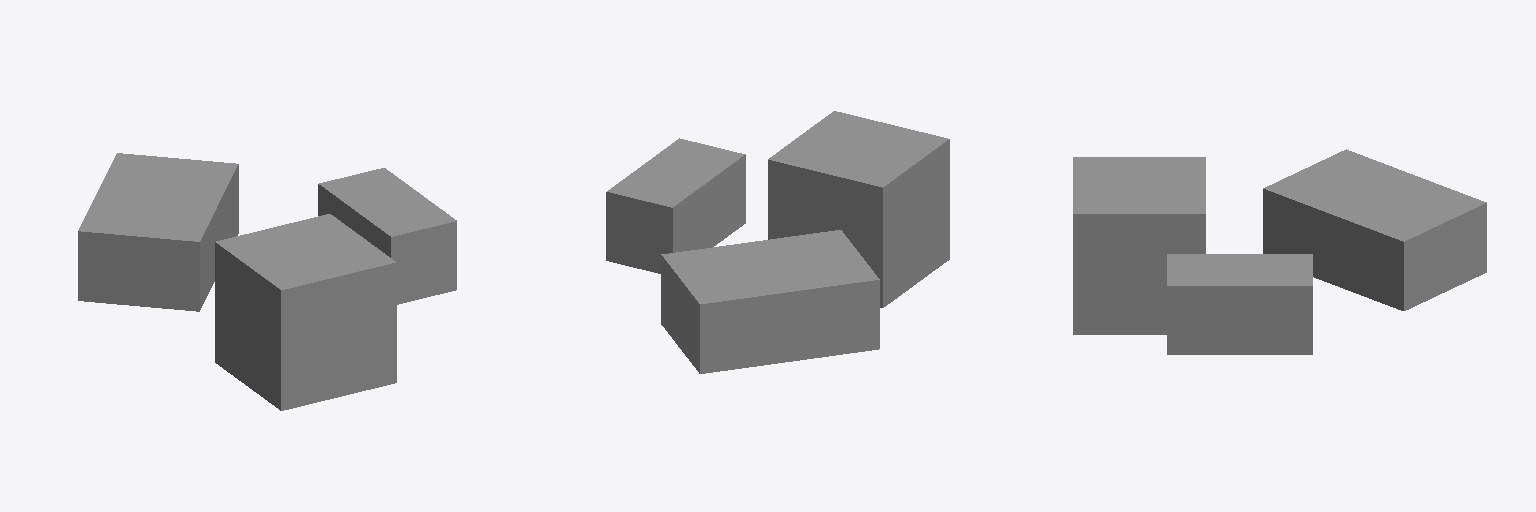
The model's file is 3cubes.obj.
3 views of the same model, side by side, from view 1: azimuth 30°, elevation 25°; view 2: azimuth 150°, elevation 25°; view 3: azimuth 270°, elevation 25° (orthographic).
Parts seen in each view (by area): view 1: Cube, Cube.001, Cube.002; view 2: Cube.001, Cube, Cube.002; view 3: Cube.001, Cube, Cube.002.
Boxes of the visible parts, <box> form: Cube: <box>215,214,396,410</box>; Cube.001: <box>78,153,238,311</box>; Cube.002: <box>318,168,456,304</box>; Cube.001: <box>661,230,879,373</box>; Cube: <box>768,111,949,307</box>; Cube.002: <box>606,138,745,273</box>; Cube.001: <box>1263,149,1486,310</box>; Cube: <box>1073,157,1205,334</box>; Cube.002: <box>1167,254,1312,354</box>.
Bounding box in the file's own units: 5.03 × 2 × 6.22.